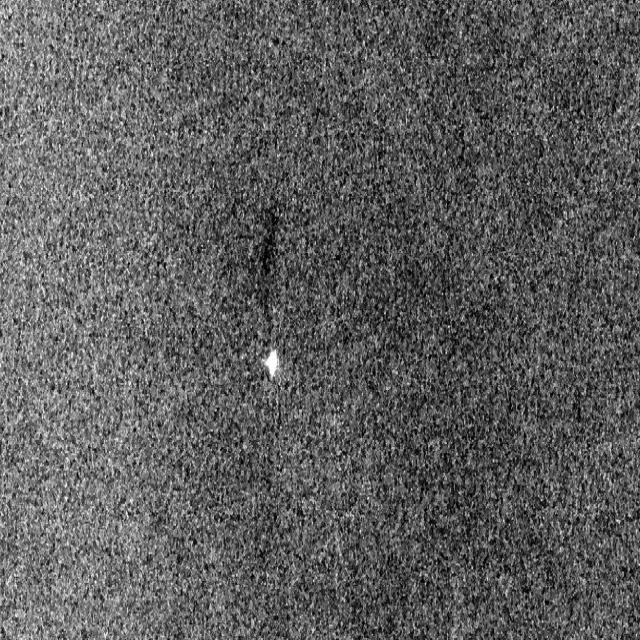oil-spill: (241, 197, 287, 338)
ship: (258, 345, 285, 390)
